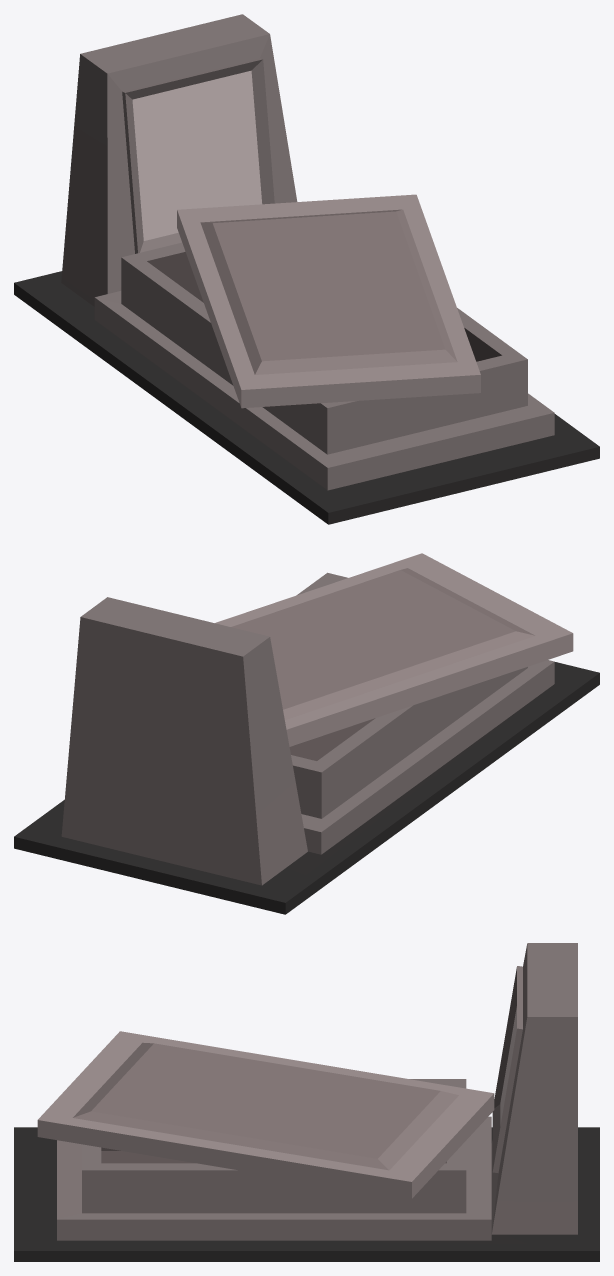
File: HWN20_Grave_08.gltf
3 renders of one model, top to bottom at view 1: azimuth 30°, elevation 25°; view 2: azimuth 150°, elevation 25°; view 3: azimuth 270°, elevation 25°, orthographic. The views are drawn at different scales.
Visible parts, largest first — view 1: HWN20_Grave_08_glb; view 2: HWN20_Grave_08_glb; view 3: HWN20_Grave_08_glb.
Part boxes in pixels (x1=…): HWN20_Grave_08_glb: x1=14, y1=14, x2=599, y2=524; HWN20_Grave_08_glb: x1=14, y1=553, x2=599, y2=914; HWN20_Grave_08_glb: x1=14, y1=943, x2=599, y2=1261.
Size of what is drawn, in the model's own units: 1.46 by 0.991 by 2.39.
1 material, 1 textured.
